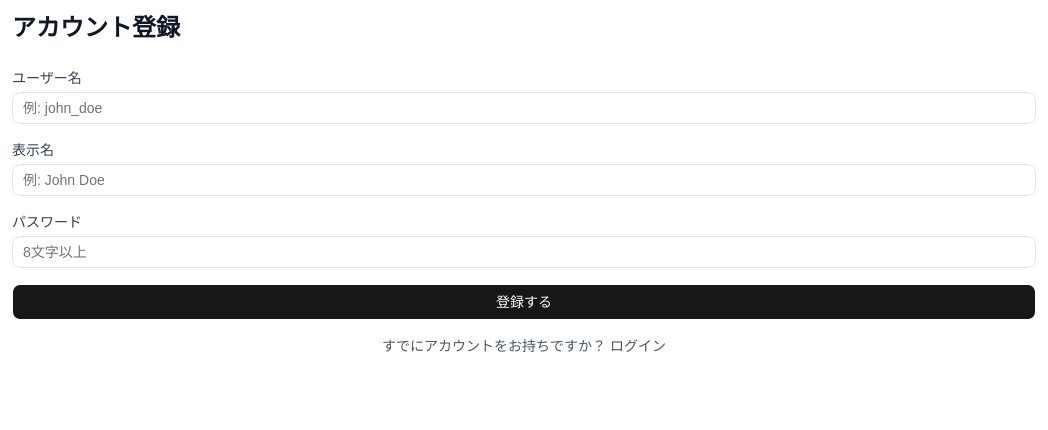
Test case: RegisterForm › 記号を含むusernameでバリデーションエラーが表示される（英数字・アンダースコアのみ）
Step 1. Type "user@name!" into the field with placeholder "例: john_doe" → (524, 108), box [12,92,1036,124]
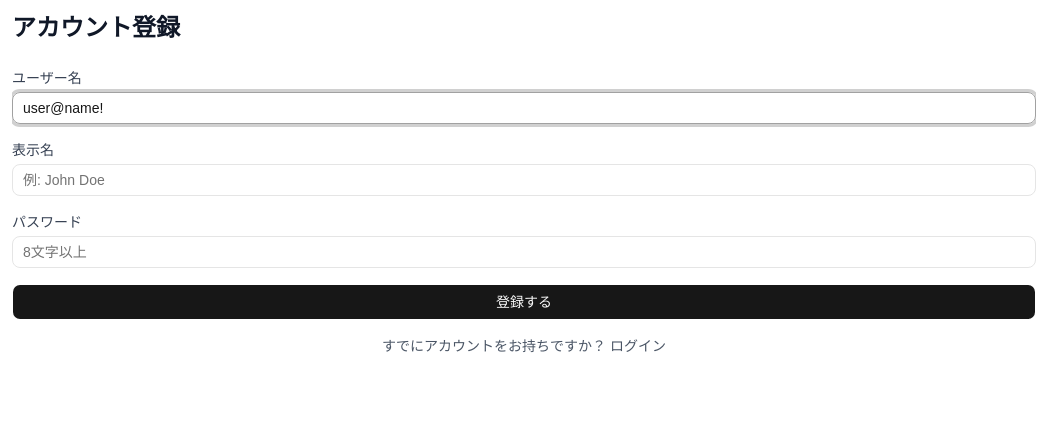
Step 2. Click the button "登録する" → (524, 302), box [12,284,1036,320]
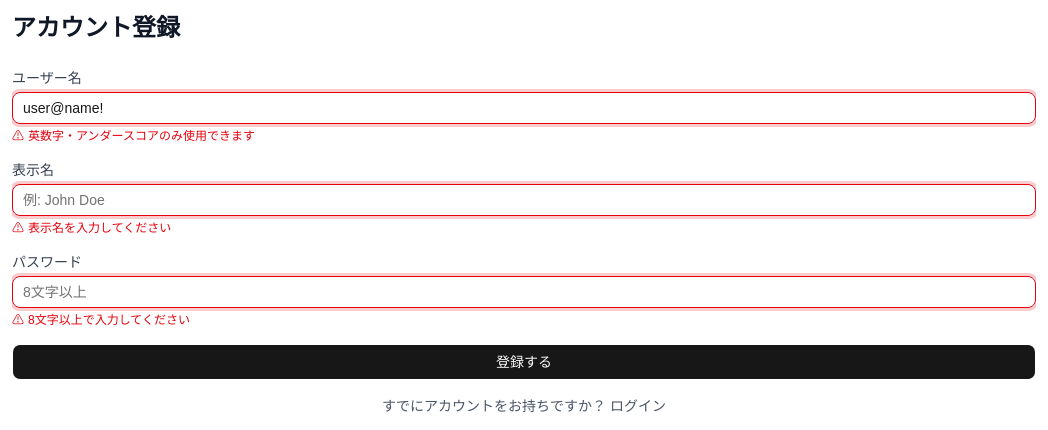
Expected: the text "英数字・アンダースコアのみ使用できます" is shown, [28,129,255,143]
